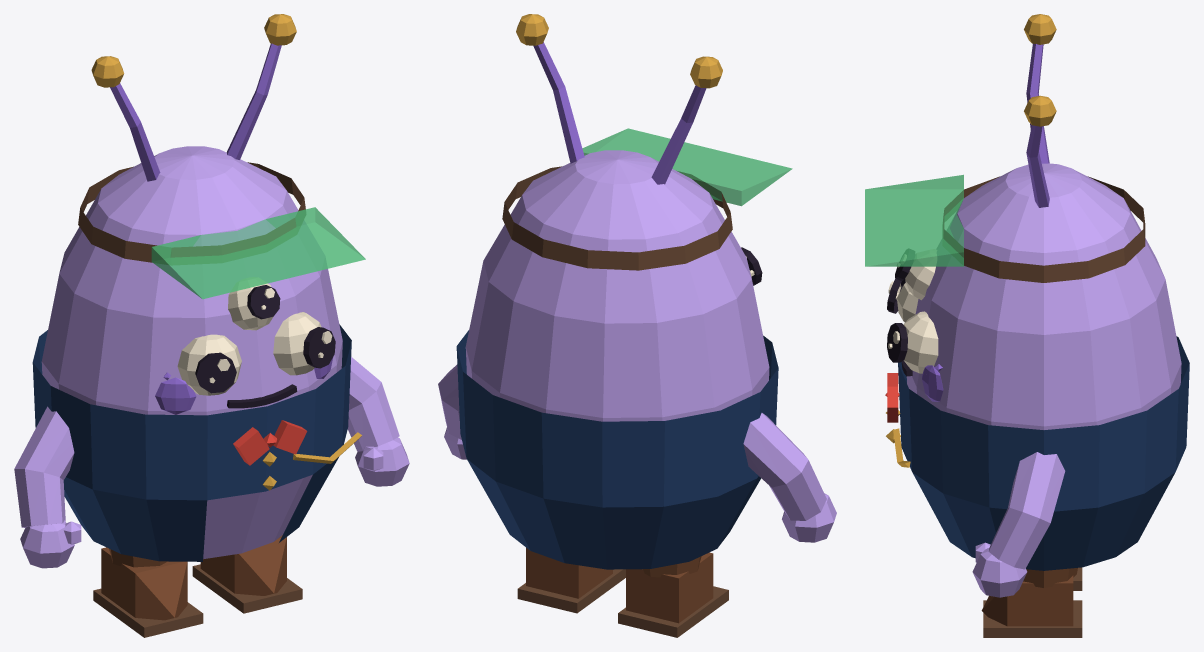
File: Char_Native_Banker.obj
3 renders of one model, left to right at view 1: azimuth 30°, elevation 25°; view 2: azimuth 150°, elevation 25°; view 3: azimuth 270°, elevation 25°, orthographic. The views are drawn at different scales.
Parts seen in each view (by area): view 1: Char_Native_Banker_Body, Char_Native_Banker_Head, Char_Native_Banker_Arm_R, Char_Native_Banker_Leg_R, Char_Native_Banker_Leg_L, Char_Native_Banker_Arm_L; view 2: Char_Native_Banker_Body, Char_Native_Banker_Leg_R, Char_Native_Banker_Arm_R, Char_Native_Banker_Head, Char_Native_Banker_Leg_L, Char_Native_Banker_Arm_L; view 3: Char_Native_Banker_Body, Char_Native_Banker_Head, Char_Native_Banker_Arm_L, Char_Native_Banker_Leg_L.
Boxes of the visible parts, box(x1,y1,x2,y2) form: Char_Native_Banker_Body: box(32, 146, 365, 561); Char_Native_Banker_Head: box(91, 14, 335, 414); Char_Native_Banker_Arm_R: box(14, 406, 81, 568); Char_Native_Banker_Leg_R: box(93, 547, 203, 637); Char_Native_Banker_Leg_L: box(192, 535, 302, 613); Char_Native_Banker_Arm_L: box(348, 357, 409, 486); Char_Native_Banker_Body: box(456, 128, 792, 569); Char_Native_Banker_Leg_R: box(618, 552, 728, 637); Char_Native_Banker_Arm_R: box(743, 413, 836, 542); Char_Native_Banker_Head: box(516, 14, 762, 285); Char_Native_Banker_Leg_L: box(517, 547, 625, 613); Char_Native_Banker_Arm_L: box(438, 364, 466, 459); Char_Native_Banker_Body: box(865, 163, 1189, 570); Char_Native_Banker_Head: box(887, 14, 1056, 401); Char_Native_Banker_Arm_L: box(972, 452, 1065, 597); Char_Native_Banker_Leg_L: box(981, 568, 1082, 637).
Bounding box in the file's own units: 1.17 × 1.64 × 0.8864.
